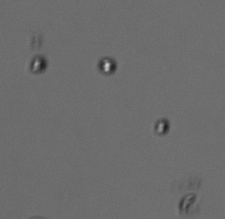Dead Cell: (180, 192, 199, 214), (153, 118, 171, 137), (28, 56, 47, 72)
Living Cell: (97, 56, 119, 75)
